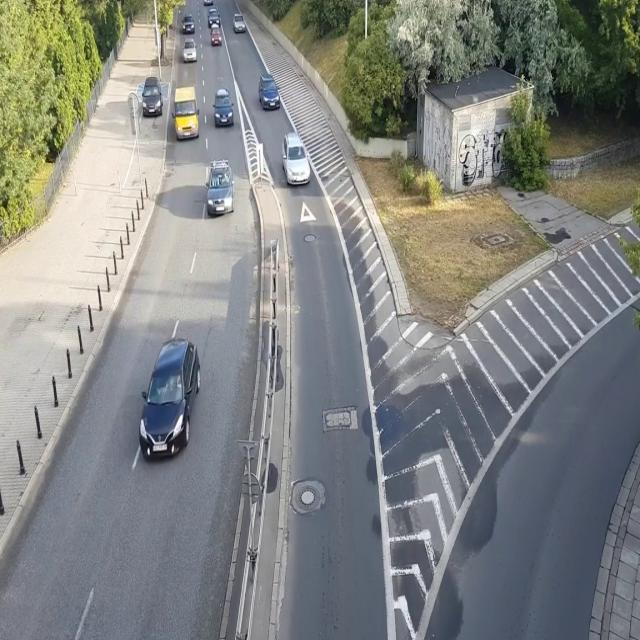car: (134, 336, 202, 466), (202, 156, 235, 218), (280, 130, 312, 189), (211, 87, 236, 128), (141, 73, 163, 119), (257, 74, 282, 114), (182, 36, 198, 64), (232, 12, 247, 35), (182, 13, 194, 35), (206, 8, 220, 26), (210, 25, 222, 45), (202, 0, 214, 8)
van: (171, 86, 200, 141)
